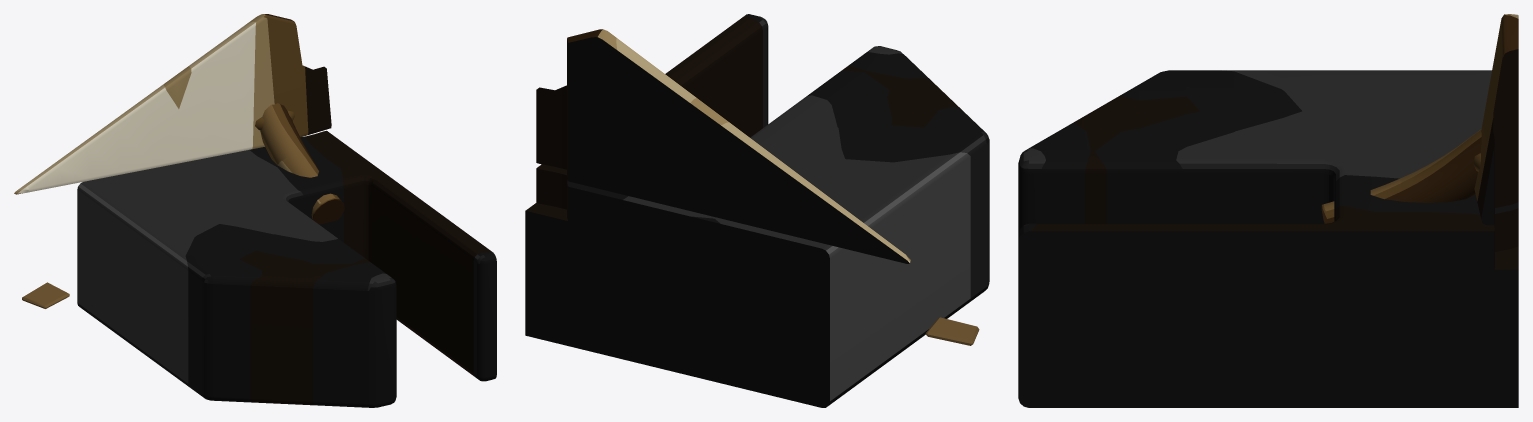
The model's file is gold_pyramid_bl_wreck.glb.
3 renders of one model, left to right at view 1: azimuth 30°, elevation 25°; view 2: azimuth 150°, elevation 25°; view 3: azimuth 270°, elevation 25°, orthographic. The views are drawn at different scales.
Visible parts, largest first — view 1: gold_pyramid_bl_wreck; view 2: gold_pyramid_bl_wreck; view 3: gold_pyramid_bl_wreck.
Boxes of the visible parts, x1,y1,x2,y2 form: gold_pyramid_bl_wreck: (14,14,496,407); gold_pyramid_bl_wreck: (525,14,989,407); gold_pyramid_bl_wreck: (1018,14,1518,407).
Size of the model in its own units: 19.97 by 14.84 by 19.
